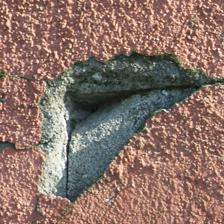Crack: (65, 85, 132, 140)
